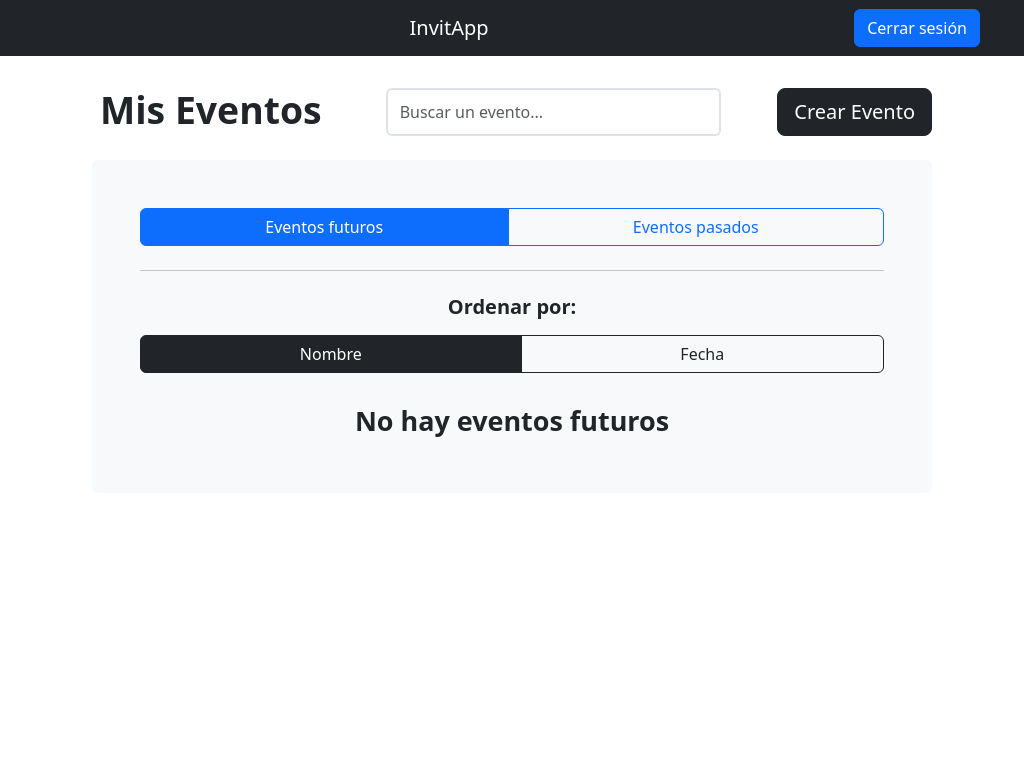
Crear Evento › Prueba 1: Verificar que al pinchar en el botón Crear Evento se abre un el modal
Pinchar en el modal para crear Evento
Click the button "Crear Evento": (855, 112) [777, 88, 932, 136]
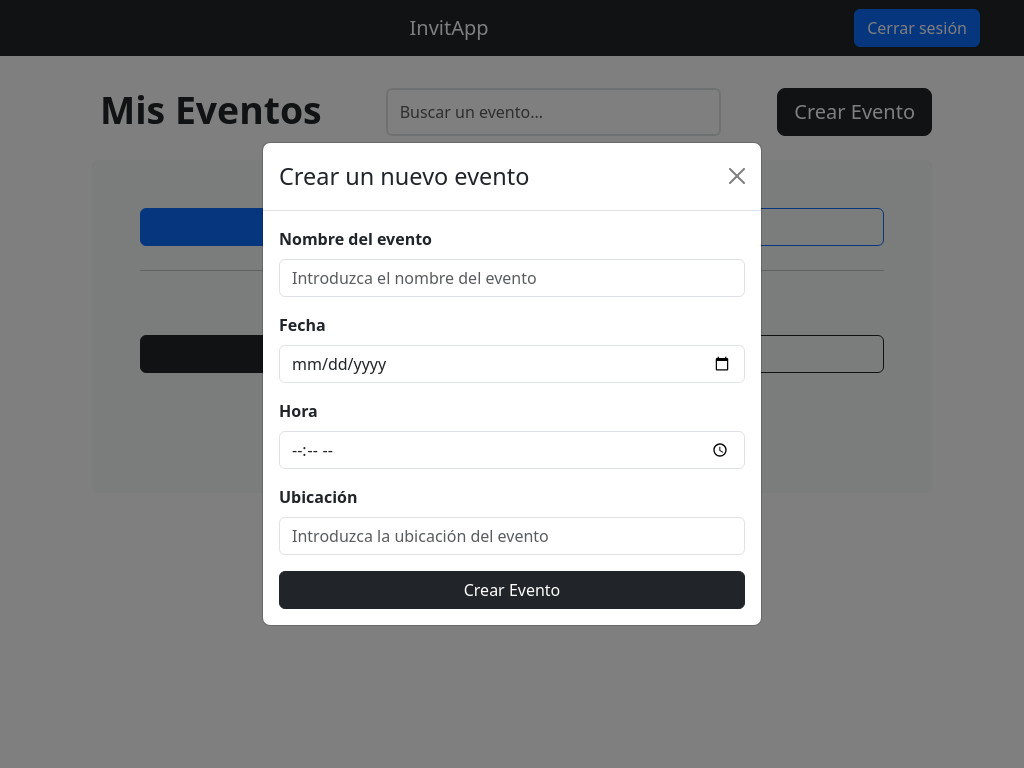
expect the element with id "modalCrearEvento" is shown: met, box [262, 28, 762, 740]
